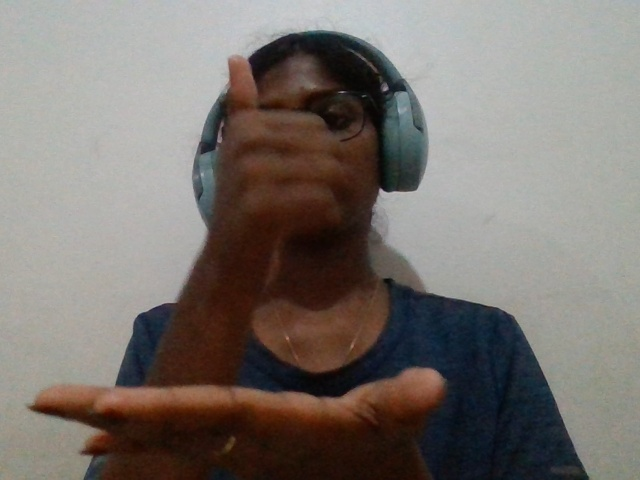Help: (11, 39, 469, 480)
